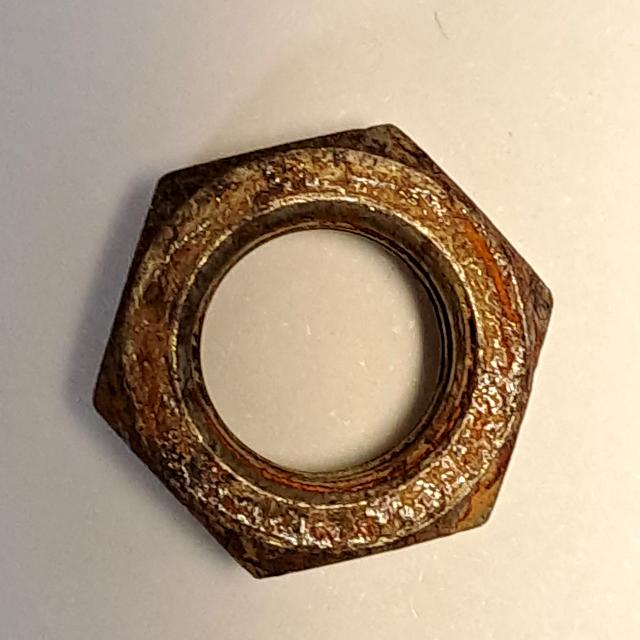Rust: (76, 108, 569, 595)
